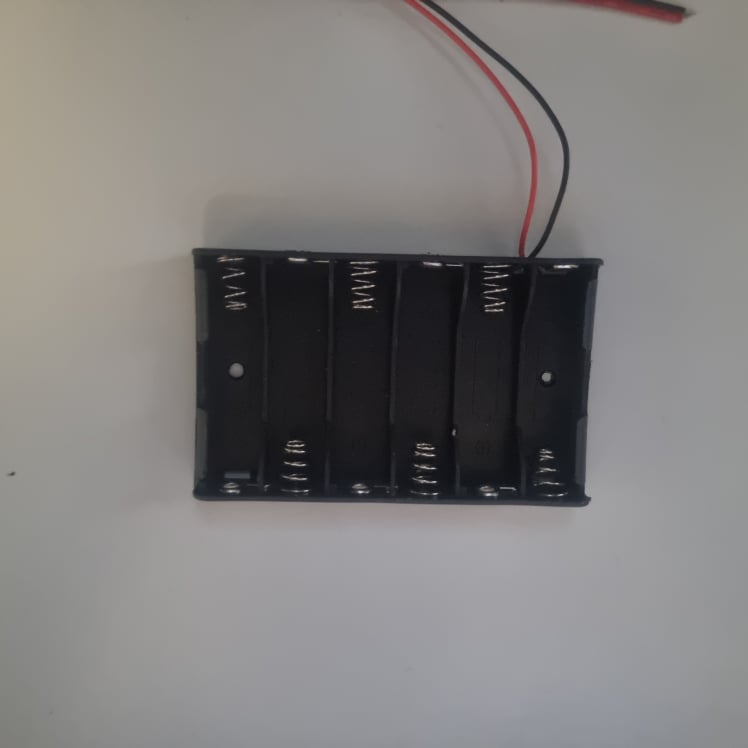BATTERY BOX: (189, 250, 604, 508)
